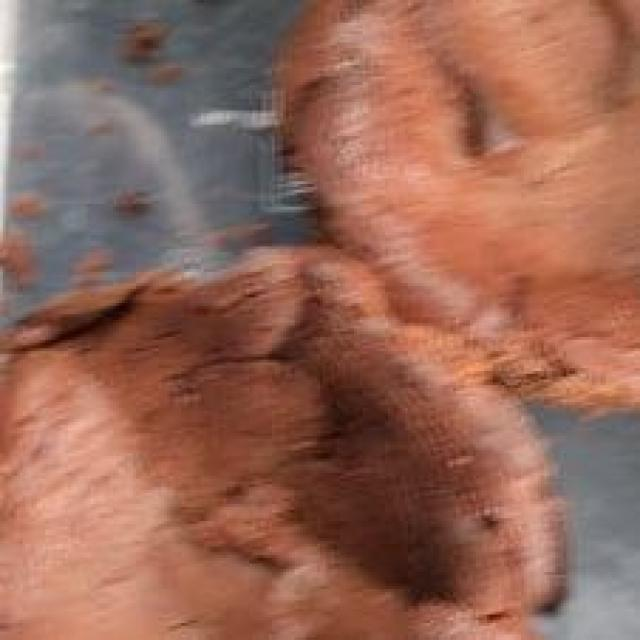cake: (30, 24, 622, 605)
